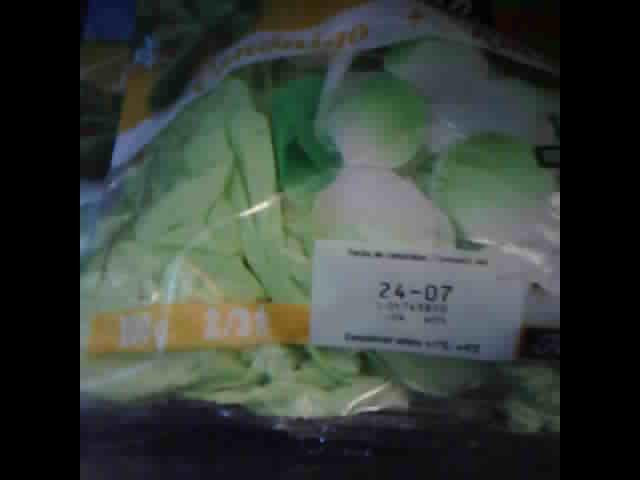florette: (83, 5, 557, 454)
